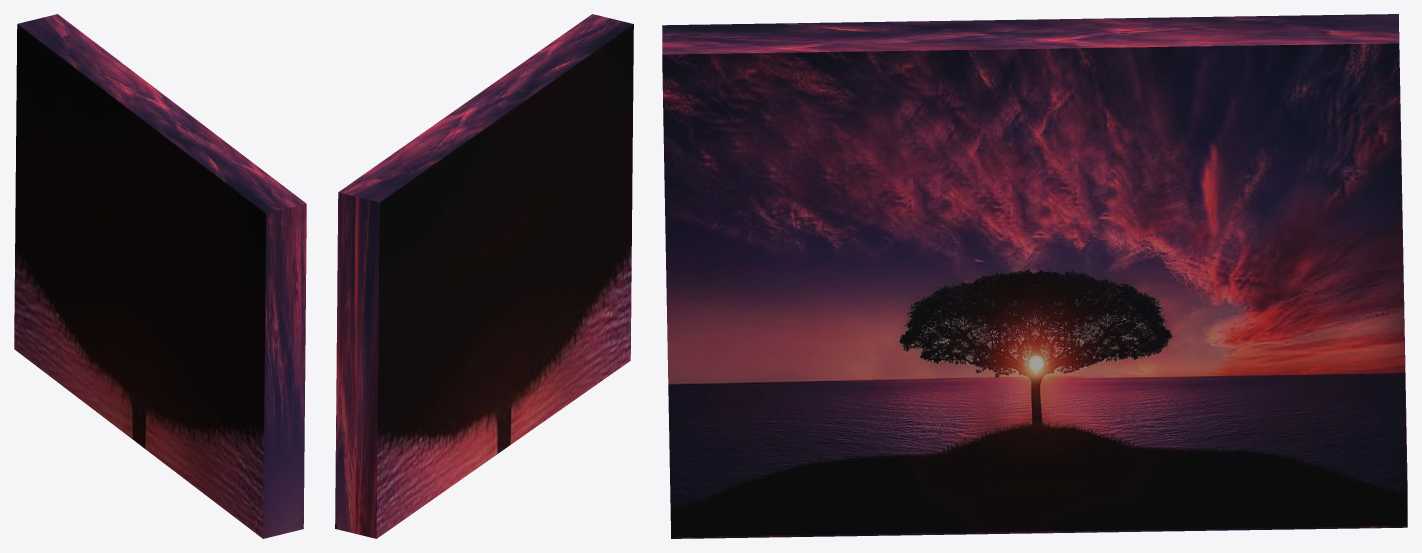
Rendered from dada.fbx.
The picture shows the model from 3 angles, left to right: view 1: azimuth 30°, elevation 25°; view 2: azimuth 150°, elevation 25°; view 3: azimuth 270°, elevation 25°; orthographic projection. The views are drawn at different scales.
Parts seen in each view (by area): view 1: Cube; view 2: Cube; view 3: Cube.
Part boxes in pixels (x1,y1,x2,y2): Cube: [14, 14, 306, 538]; Cube: [335, 14, 633, 538]; Cube: [662, 14, 1407, 538].
Bounding box in the file's own units: 200 × 1576 × 2149.
Materials: 1 (1 with a texture image).
